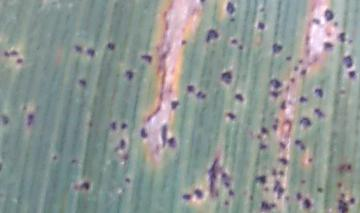tarspot: (206, 151, 236, 197), (217, 68, 234, 87), (279, 118, 293, 141), (159, 121, 169, 150), (271, 179, 285, 199), (336, 190, 348, 213), (72, 179, 93, 192), (298, 116, 313, 133), (258, 199, 276, 213), (334, 161, 353, 174), (204, 28, 220, 43), (113, 138, 128, 153), (2, 46, 19, 59), (25, 111, 36, 131), (222, 1, 236, 16), (138, 52, 153, 65), (341, 54, 354, 69), (192, 187, 205, 201), (293, 137, 306, 151), (268, 77, 283, 89), (233, 92, 246, 105), (169, 98, 181, 112), (269, 42, 283, 54), (255, 19, 267, 33), (223, 110, 237, 122), (253, 173, 267, 185), (321, 41, 335, 53), (1, 111, 12, 126), (194, 88, 207, 100), (312, 106, 325, 118), (312, 87, 325, 99), (124, 68, 135, 82), (107, 119, 118, 133), (256, 140, 270, 151), (306, 55, 321, 65), (180, 192, 192, 204), (271, 116, 279, 134), (283, 83, 291, 101), (323, 8, 334, 21), (336, 31, 347, 44), (277, 139, 288, 152), (302, 196, 312, 210), (139, 126, 148, 141), (105, 40, 116, 52), (85, 47, 96, 59), (72, 43, 83, 55), (268, 89, 280, 100), (259, 125, 270, 137), (277, 156, 290, 166), (278, 98, 288, 111), (303, 32, 311, 48), (166, 137, 177, 148), (76, 77, 88, 87), (346, 70, 358, 80), (336, 86, 348, 96), (228, 36, 238, 47), (220, 198, 231, 208), (277, 168, 286, 180), (316, 184, 325, 196), (185, 84, 195, 94), (14, 56, 25, 65), (298, 95, 309, 104), (310, 17, 322, 25), (49, 154, 60, 162), (270, 168, 278, 179), (120, 122, 129, 131), (302, 47, 311, 56), (247, 193, 256, 202), (296, 55, 304, 65), (283, 54, 294, 61), (226, 17, 237, 24), (236, 44, 245, 52), (179, 38, 187, 47), (294, 192, 302, 201), (335, 181, 344, 189), (289, 76, 297, 85), (331, 20, 340, 28), (306, 156, 314, 164), (262, 185, 270, 193), (292, 64, 299, 73), (123, 176, 131, 183), (68, 157, 76, 164), (348, 197, 356, 204), (298, 178, 306, 185), (299, 68, 307, 75), (347, 37, 353, 46), (197, 1, 206, 4)
